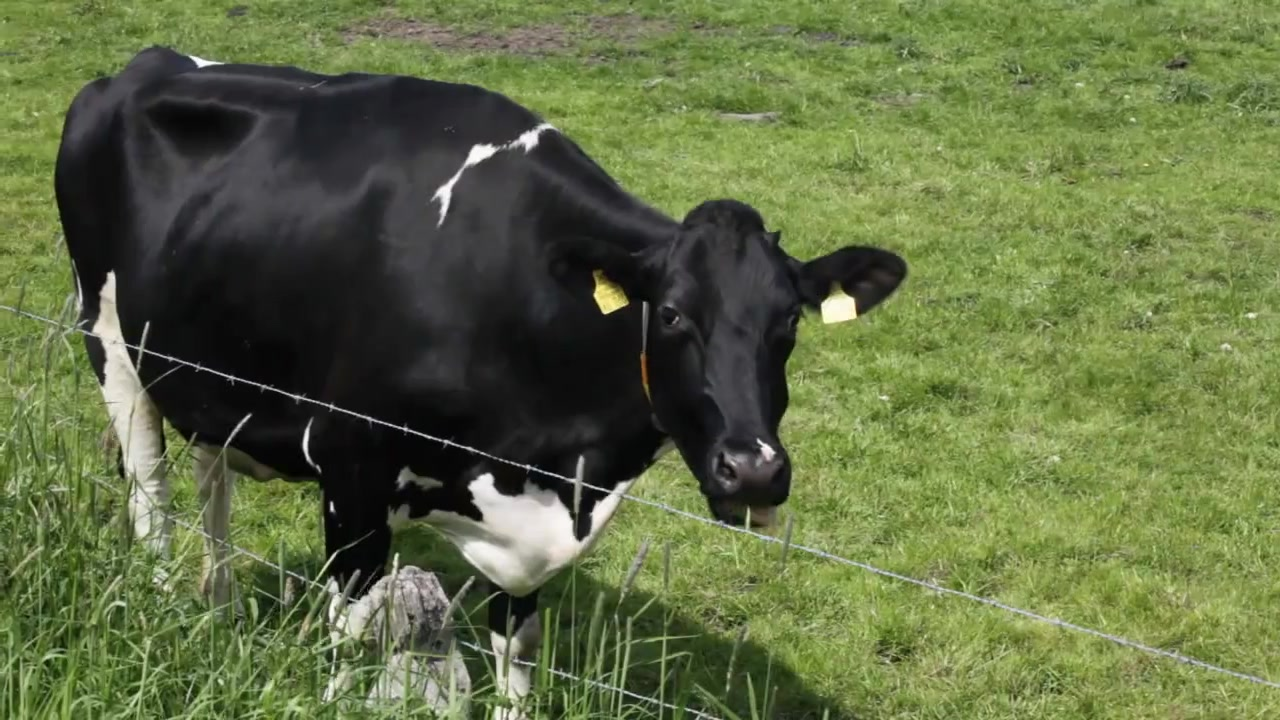cow: (52, 45, 909, 720)
